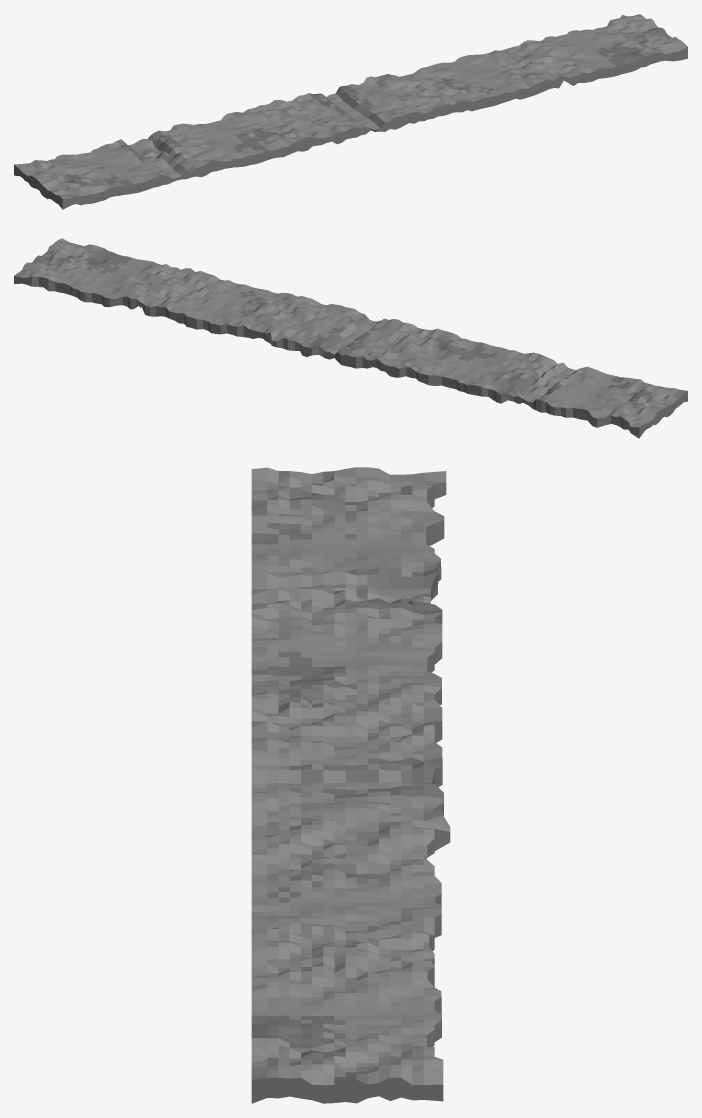
File: red_far_wall.fbx
3 renders of one model, top to bottom at view 1: azimuth 30°, elevation 25°; view 2: azimuth 150°, elevation 25°; view 3: azimuth 270°, elevation 25°, orthographic. The views are drawn at different scales.
Parts seen in each view (by area): view 1: Grid; view 2: Grid; view 3: Grid.
Part boxes in pixels (x1=…): Grid: x1=14, y1=14, x2=687, y2=209; Grid: x1=14, y1=238, x2=687, y2=438; Grid: x1=251, y1=467, x2=450, y2=1103.
Size of the model in its own units: 16.18 by 0.3331 by 2.23.
3 materials, 3 textured.
